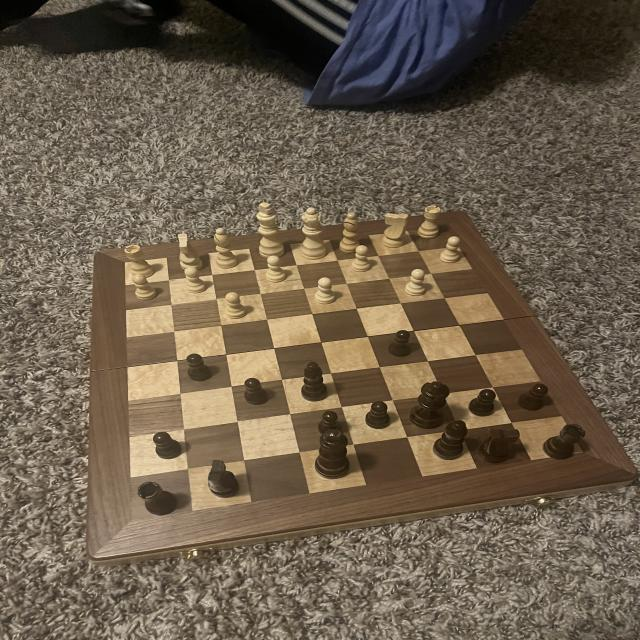bishop: (430, 417, 472, 464), (298, 361, 332, 403)
black-bishop: (313, 427, 354, 482)
black-king: (476, 424, 524, 468), (202, 458, 244, 500)
black-knight: (514, 381, 552, 413), (152, 430, 186, 462), (362, 400, 395, 432), (183, 353, 217, 384), (465, 388, 499, 418), (243, 377, 275, 408), (313, 408, 345, 436), (386, 328, 414, 360)
black-pawn: (408, 379, 452, 431)
black-queen: (538, 420, 588, 463), (135, 478, 180, 520)
black-rook: (209, 225, 243, 273), (335, 208, 367, 256)
white-bishop: (254, 200, 286, 260)
white-king: (170, 232, 209, 272), (382, 210, 414, 252)
white-knight: (400, 268, 430, 300), (130, 272, 162, 301), (347, 243, 377, 273), (437, 236, 467, 266), (182, 264, 210, 296), (312, 276, 340, 306), (264, 253, 290, 285), (222, 290, 249, 320)
white-pawn: (294, 205, 334, 261)
white-queen: (124, 242, 160, 280), (416, 204, 445, 240)
